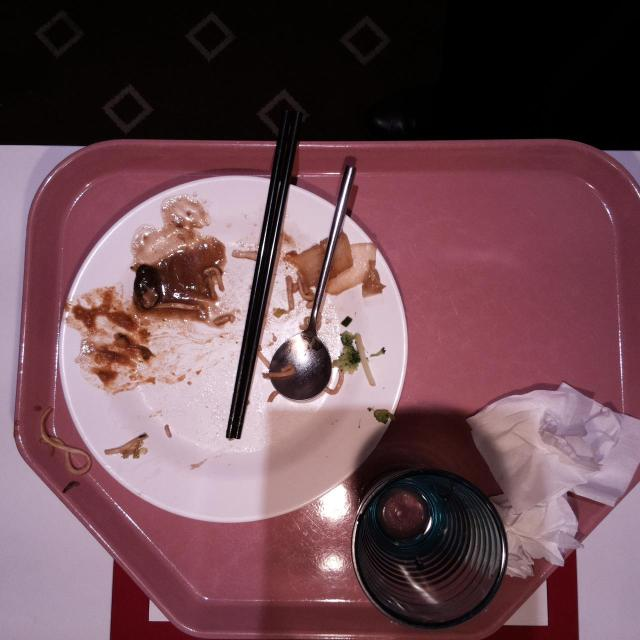Vegetable: (336, 330, 362, 374)
